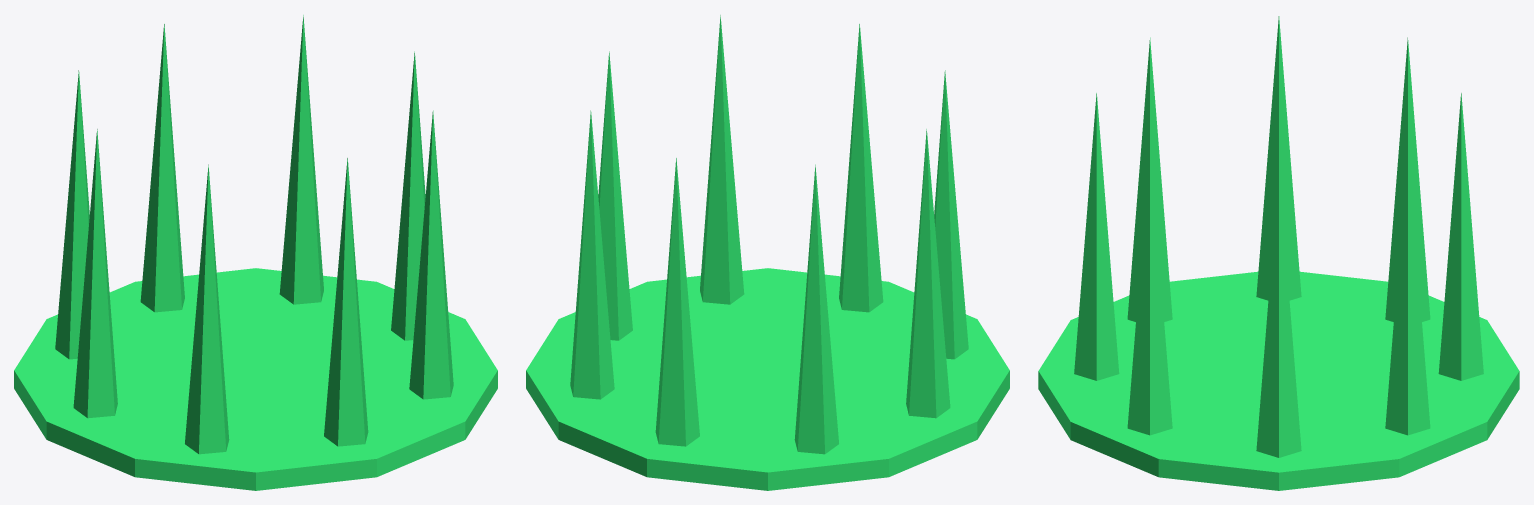
File: heal_burst.obj
3 views of the same model, side by side, from view 1: azimuth 30°, elevation 25°; view 2: azimuth 150°, elevation 25°; view 3: azimuth 270°, elevation 25° (orthographic).
Visible parts, largest first — view 1: models/vfx/heal_burst.obj; view 2: models/vfx/heal_burst.obj; view 3: models/vfx/heal_burst.obj.
Boxes of the visible parts, <box> form: models/vfx/heal_burst.obj: <box>14,15,497,490</box>; models/vfx/heal_burst.obj: <box>526,15,1009,490</box>; models/vfx/heal_burst.obj: <box>1038,16,1519,490</box>.
Size of the model in its own units: 1.9 by 1.3 by 1.9.
